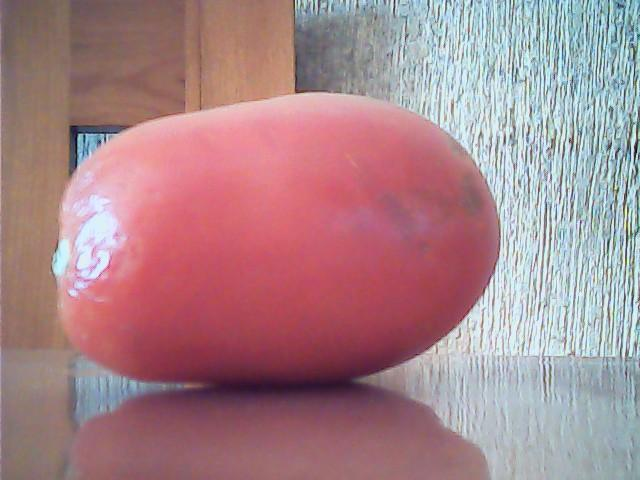defectuoso: (50, 91, 504, 389)
